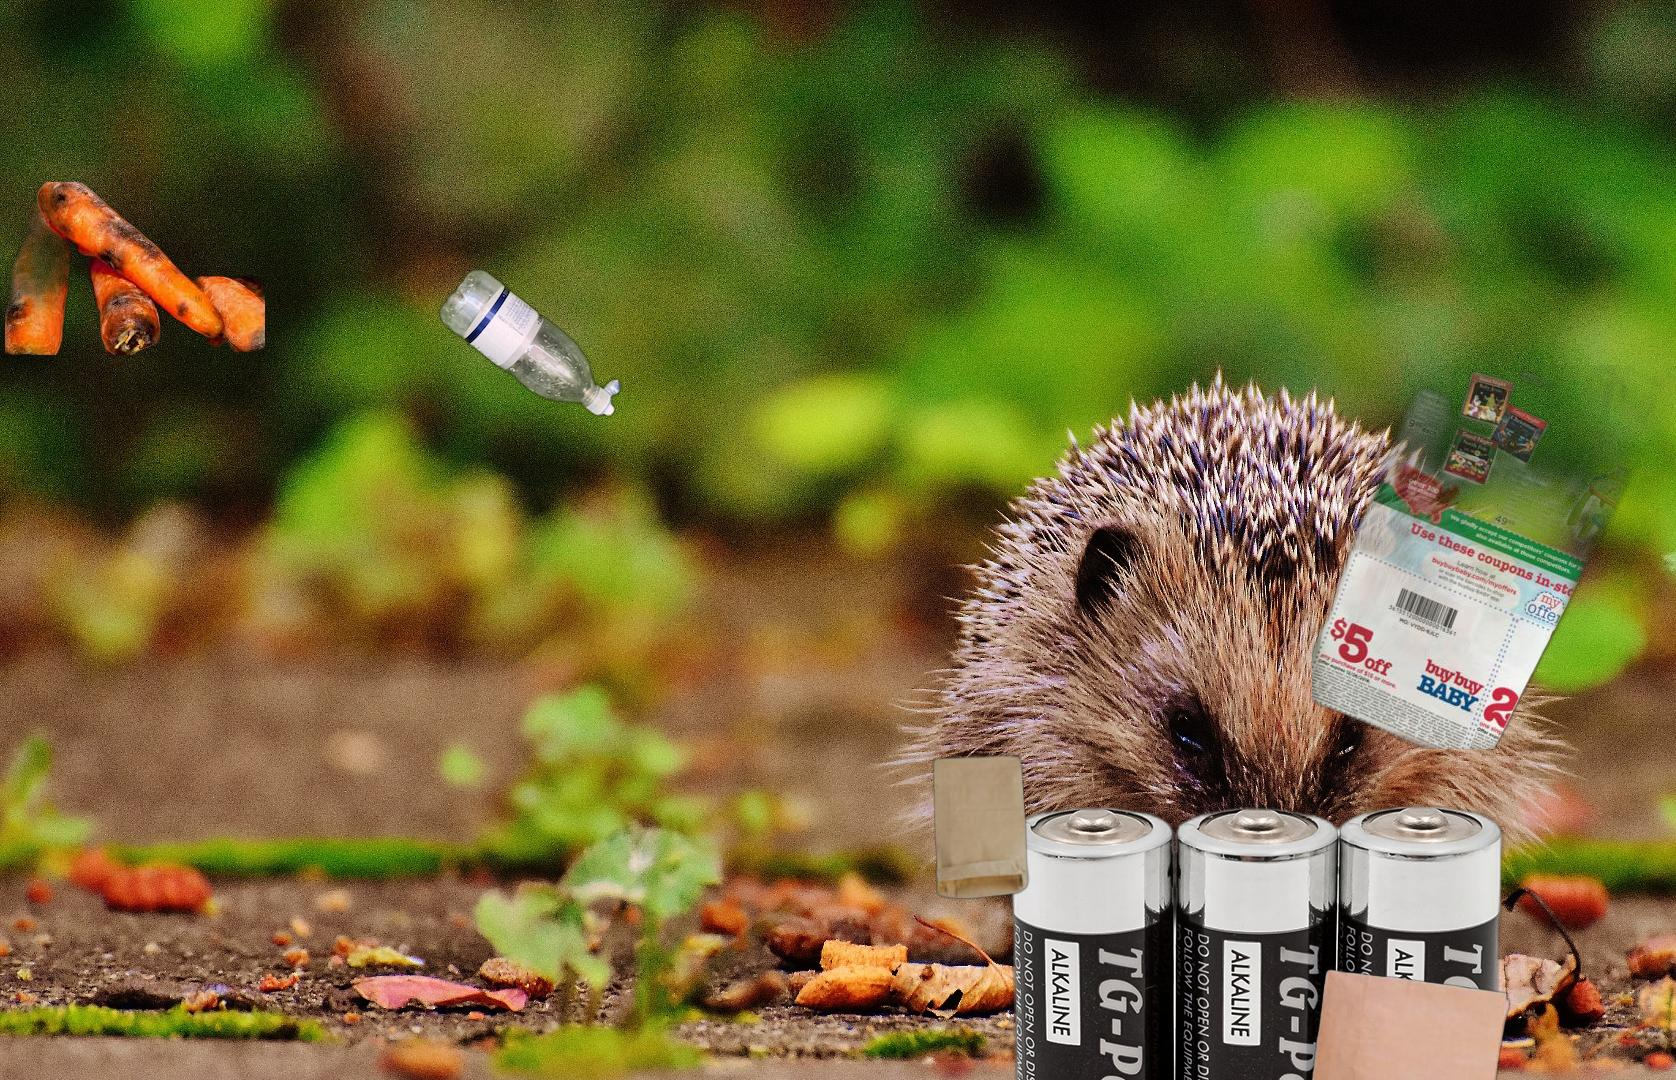battery: (1003, 799, 1509, 1080)
biological: (5, 182, 265, 360)
paper: (1312, 365, 1676, 749)
paper-bag: (1306, 966, 1514, 1080), (930, 751, 1031, 900)
plastic-bottles: (436, 263, 627, 421)
